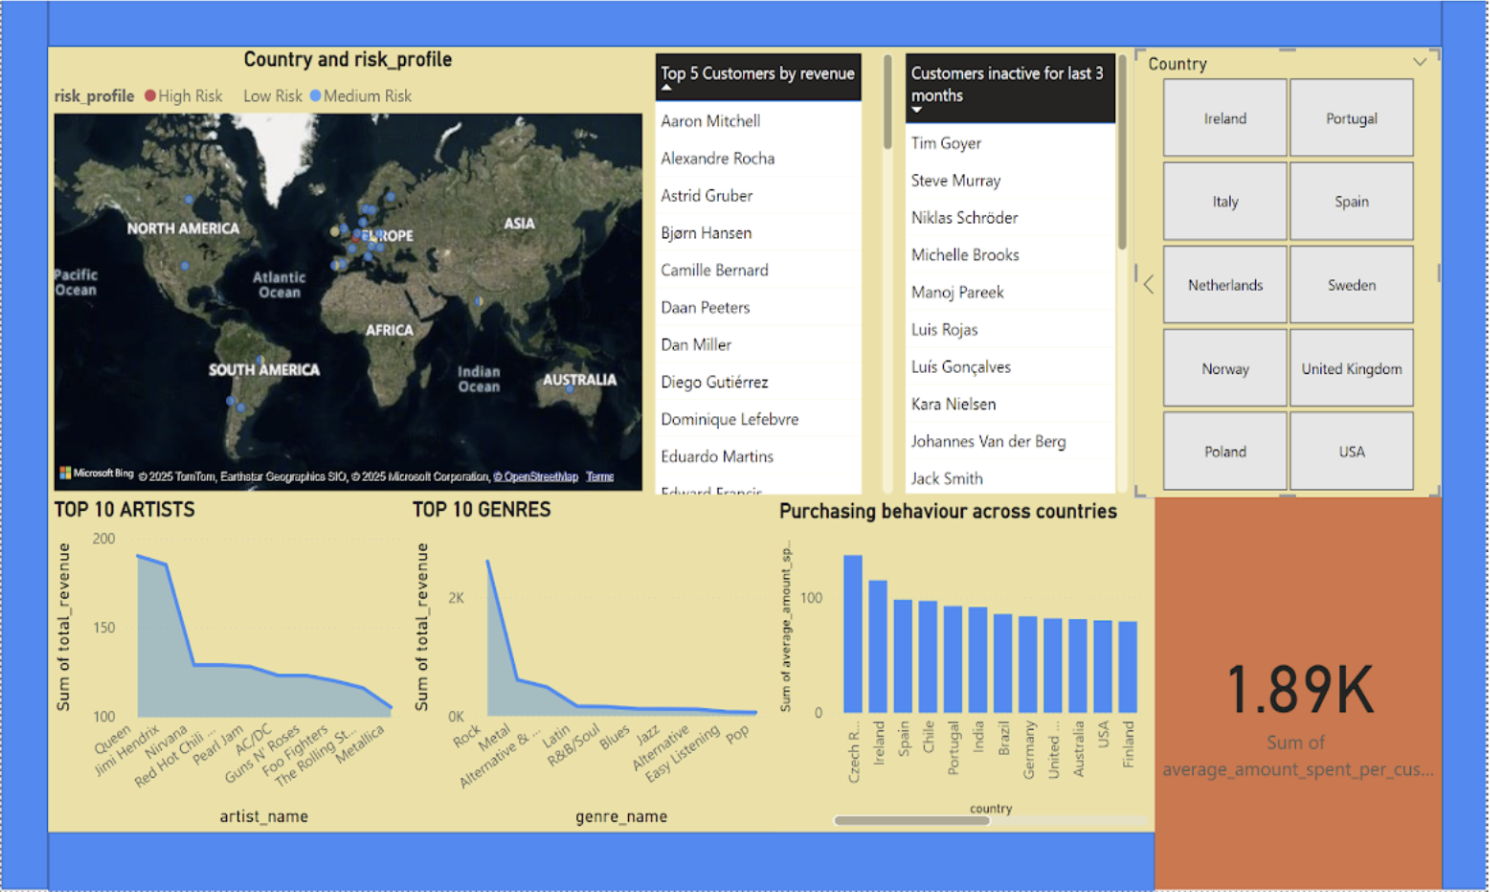

This screenshot's page, from the dashboard's own definition file:
{"tool":"powerbi","page":{"name":"Page 1","canvas":[1280,720],"ordinal":0},"visuals":[{"type":"areaChart","title":"TOP 10 ARTISTS","fields":{"Category":["top10artists.artist_name"],"Y":["top10artists.total_revenue"]},"box":[40.5,402.3,310.3,269.8],"z":0},{"type":"areaChart","title":"TOP 10 GENRES","fields":{"Category":["top10genres.genre_name"],"Y":["top10genres.total_revenue"]},"box":[349.6,402.3,316.5,269.8],"z":1000},{"type":"map","title":"Country and risk_profile","fields":{"Category":["riskanalysis.country"],"Series":["riskanalysis.risk_profile"]},"box":[40.5,39.3,517.6,363.1],"z":2000},{"type":"slicer","fields":{"Values":["countries.Country"]},"box":[976.4,39.3,266.2,364.3],"z":3000},{"type":"card","fields":{"Values":["purchasing behaviour.average_amount_spent_per_customer"]},"box":[994.8,402.3,247.8,316.5],"z":4000},{"type":"tableEx","fields":{"Values":["top5 customers by reveeachcountry.customer_name"]},"box":[558.1,39.3,215.9,365.5],"z":5000},{"type":"tableEx","fields":{"Values":["cusnotpurchased in last 3 months.Customers inactive for last 3 months"]},"box":[774,39.3,202.4,364.3],"z":6000},{"type":"columnChart","title":"Purchasing behaviour across countries ","fields":{"Category":["purchasing behaviour.country"],"Y":["purchasing behaviour.average_amount_spent_per_customer"]},"box":[666,403.5,328.7,268.6],"z":7000},{"type":"shape","box":[0,0,40.5,718.8],"z":8000},{"type":"shape","box":[1242.5,1.2,40.5,717.5],"z":8001},{"type":"shape","box":[40.5,672.2,954.3,49.1],"z":8002},{"type":"shape","box":[40.5,0,1202,39.3],"z":8003}]}

Visuals, with their boxes in screenshot pixels (x1, y1, x2, y2):
"TOP 10 ARTISTS" areaChart: {"x1": 0, "y1": 493, "x2": 382, "y2": 825}
"TOP 10 GENRES" areaChart: {"x1": 381, "y1": 493, "x2": 771, "y2": 825}
"Country and risk_profile" map: {"x1": 0, "y1": 45, "x2": 638, "y2": 493}
slicer - countries.Country: {"x1": 1154, "y1": 45, "x2": 1483, "y2": 494}
card - purchasing behaviour.average_amount_spent_per_customer: {"x1": 1177, "y1": 493, "x2": 1483, "y2": 883}
tableEx - top5 customers by reveeachcountry.customer_name: {"x1": 638, "y1": 45, "x2": 905, "y2": 496}
tableEx - cusnotpurchased in last 3 months.Customers inactive for last 3 months: {"x1": 905, "y1": 45, "x2": 1154, "y2": 494}
"Purchasing behaviour across countries " columnChart: {"x1": 771, "y1": 494, "x2": 1177, "y2": 825}
shape: {"x1": 1483, "y1": 0, "x2": 1489, "y2": 883}
shape: {"x1": 0, "y1": 826, "x2": 1177, "y2": 886}
shape: {"x1": 0, "y1": 0, "x2": 1483, "y2": 45}
